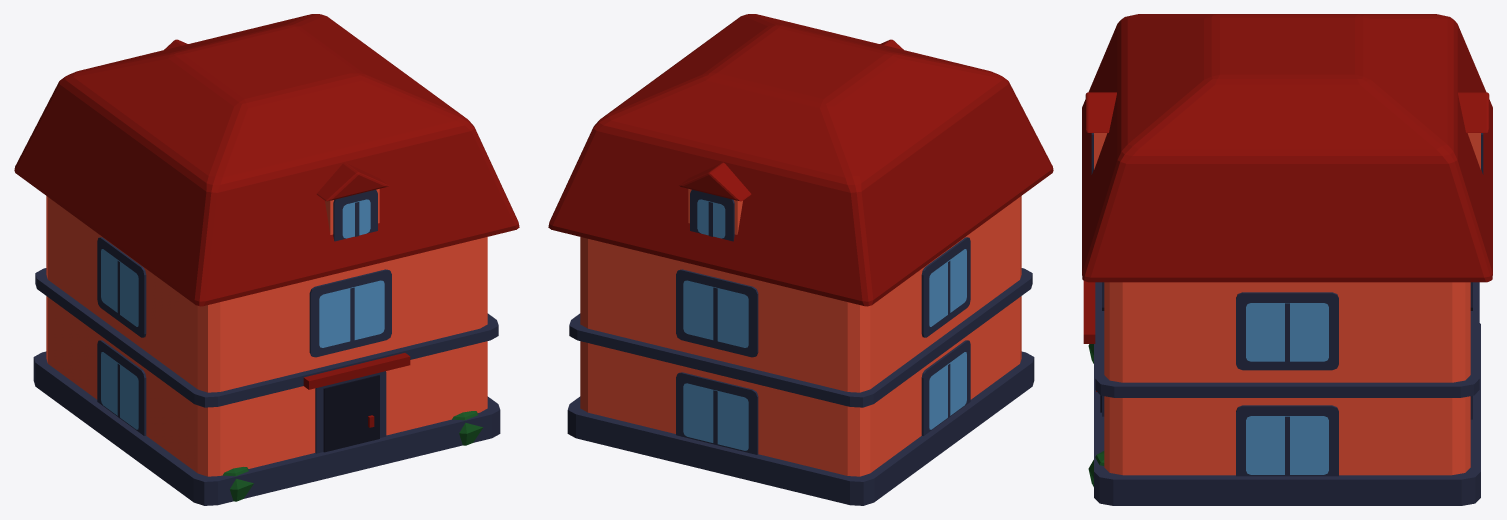
The model's file is house-1x1-2f-mansard-c.glb.
3 views of the same model, side by side, from view 1: azimuth 30°, elevation 25°; view 2: azimuth 150°, elevation 25°; view 3: azimuth 270°, elevation 25° (orthographic). The views are drawn at different scales.
Visible parts, largest first — view 1: house-1x1-2f-mansard-c; view 2: house-1x1-2f-mansard-c; view 3: house-1x1-2f-mansard-c.
Part boxes in pixels (box(x1,y1,x2,y2)): house-1x1-2f-mansard-c: box(14, 14, 519, 505); house-1x1-2f-mansard-c: box(548, 14, 1053, 505); house-1x1-2f-mansard-c: box(1082, 14, 1492, 505).
Bounding box in the file's own units: 0.9876 × 1 × 0.9876.
1 material, 1 textured.
